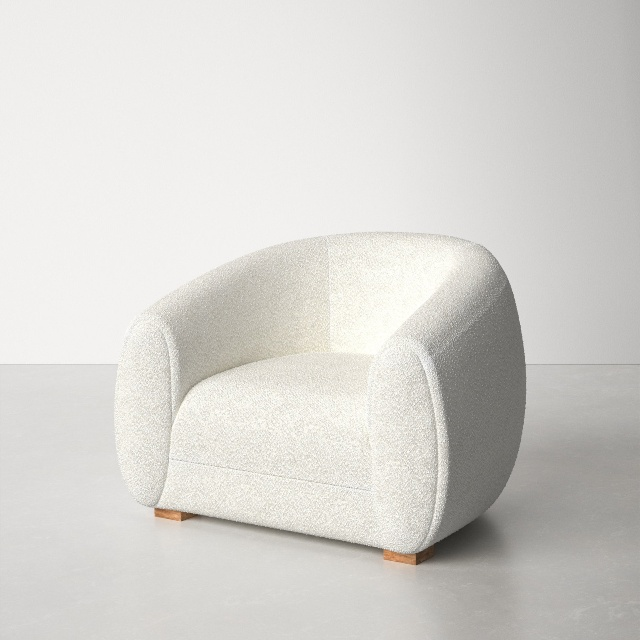obstacle: (115, 233, 525, 554)
